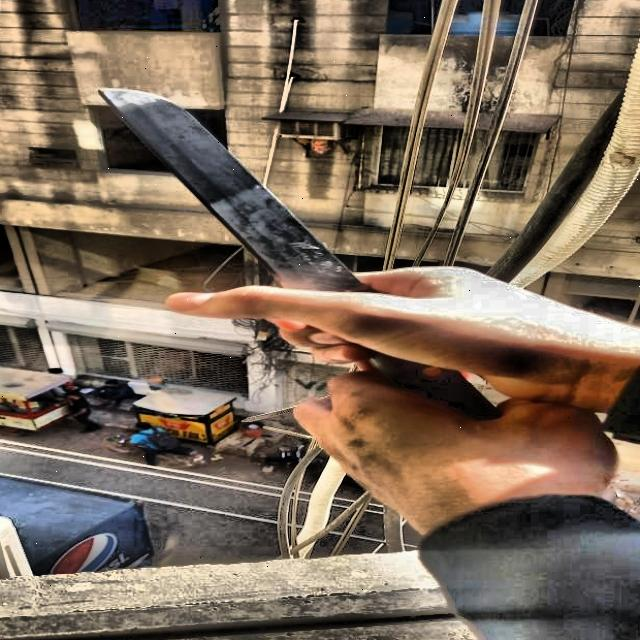knife: (99, 86, 499, 420)
